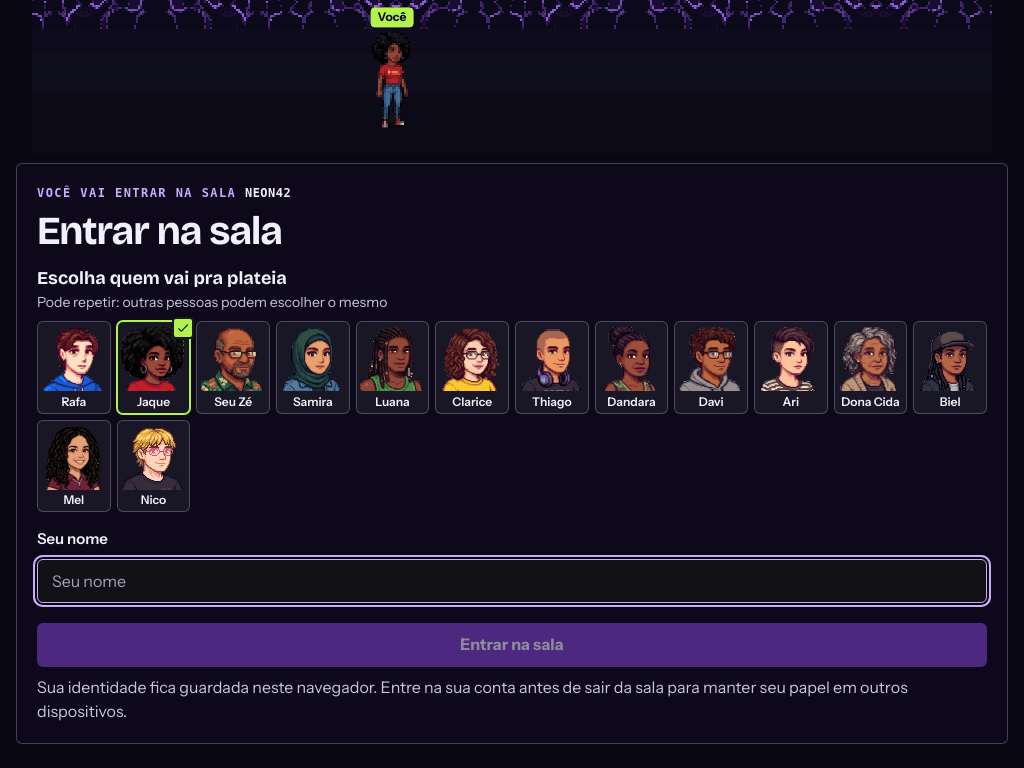
it: RoomClient join failure states (#190) › renders the distinct join timeout state in the alert
(page scrolled)
Type "Alice" into the field labelled "Seu nome" at (512, 581), box [37,559,987,603]
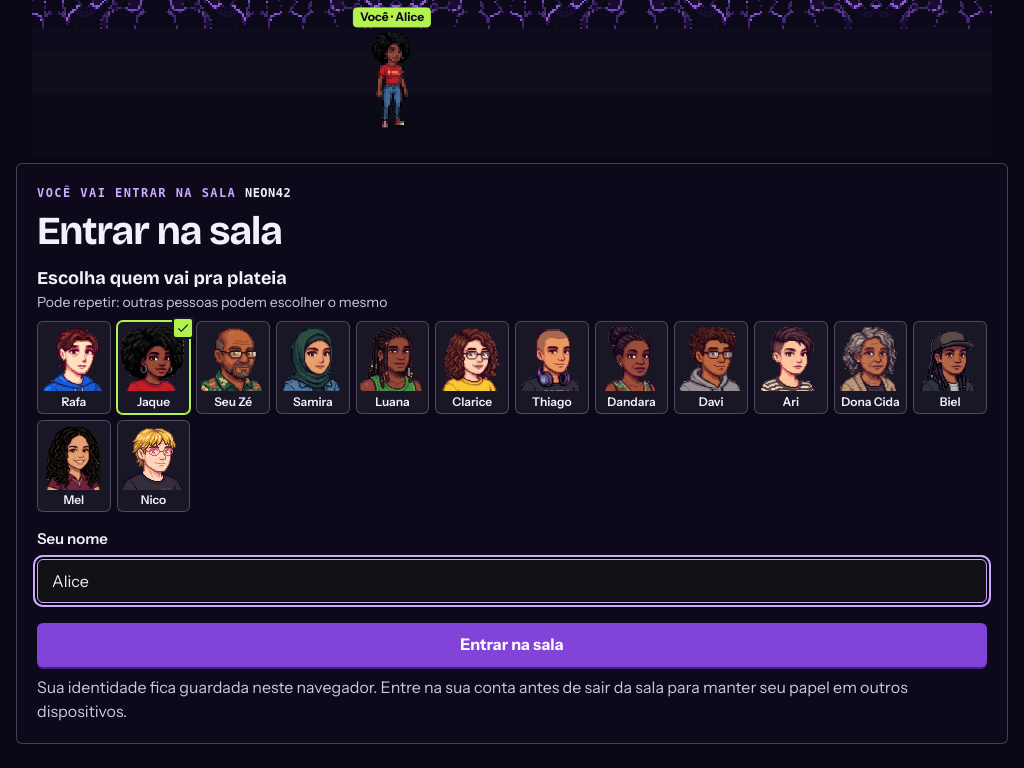
Click the button "Entrar na sala" at (512, 645), box [37,623,987,667]
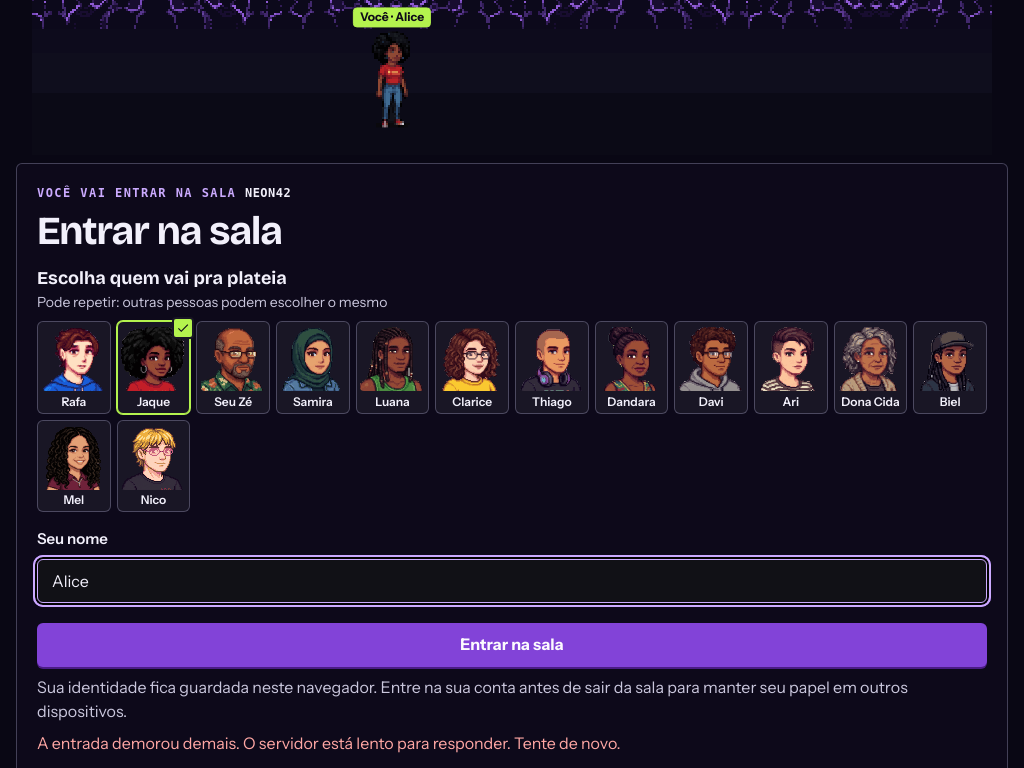
Expected: the message reads "A entrada demorou demais. O servidor está lento para responder. Tente de novo.", [37,733,620,753]
